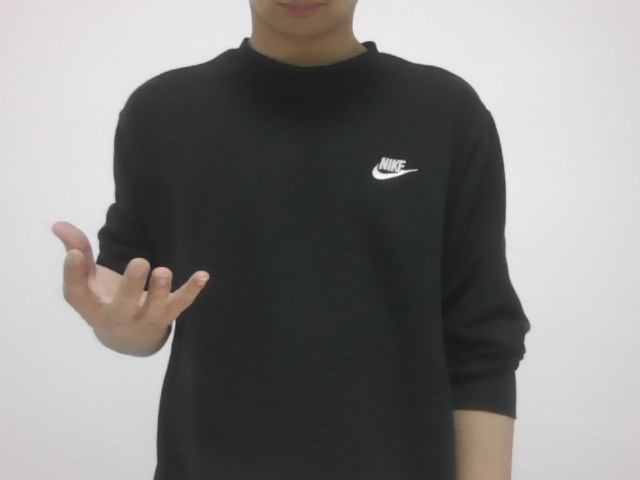flavor: (49, 209, 209, 356)
